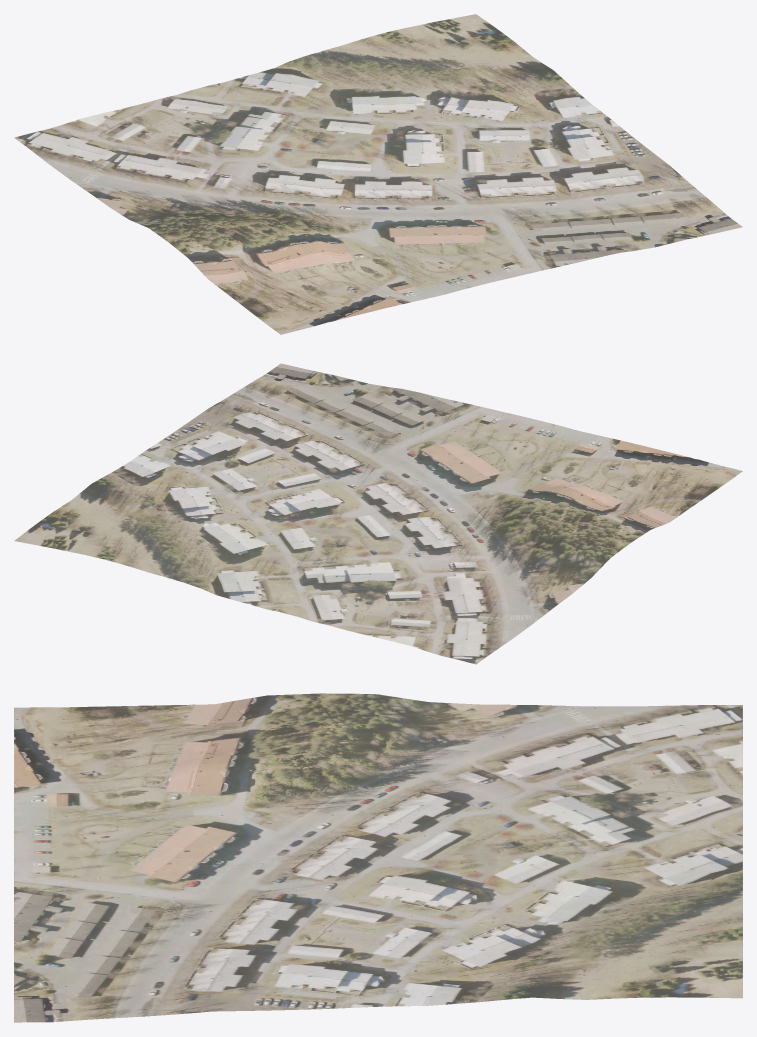
Rendered from CM_Terrain_24492711_6814674.fbx.
The picture shows the model from 3 angles, top to bottom: view 1: azimuth 30°, elevation 25°; view 2: azimuth 150°, elevation 25°; view 3: azimuth 270°, elevation 25°; orthographic projection. The views are drawn at different scales.
Visible parts, largest first — view 1: CM_Terrain_24492711_6814674_LOD0; view 2: CM_Terrain_24492711_6814674_LOD0; view 3: CM_Terrain_24492711_6814674_LOD0.
Part boxes in pixels (x1=…): CM_Terrain_24492711_6814674_LOD0: x1=14, y1=14, x2=742, y2=334; CM_Terrain_24492711_6814674_LOD0: x1=14, y1=363, x2=742, y2=664; CM_Terrain_24492711_6814674_LOD0: x1=14, y1=693, x2=742, y2=1022.
Size of what is drawn, in the model's own units: 205 by 9.04 by 205.
